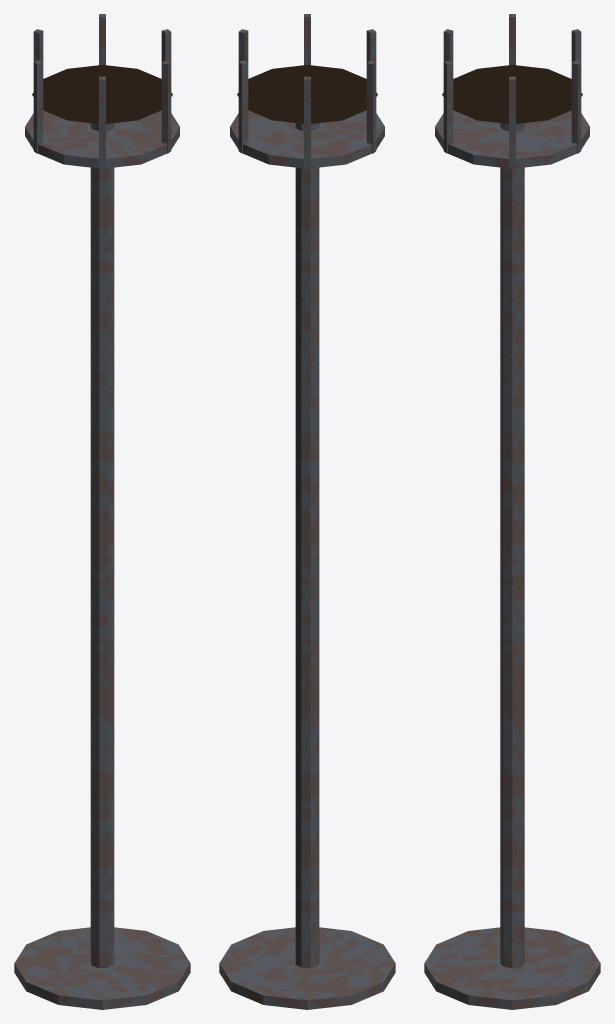
Rendered from SM_Souq_Cresset.fbx.
3 views of the same model, side by side, from view 1: azimuth 30°, elevation 25°; view 2: azimuth 150°, elevation 25°; view 3: azimuth 270°, elevation 25° (orthographic).
Parts seen in each view (by area): view 1: SM_Souq_Cresset; view 2: SM_Souq_Cresset; view 3: SM_Souq_Cresset.
Boxes of the visible parts, box(x1,y1,x2,y2) form: SM_Souq_Cresset: box(14, 14, 190, 1009); SM_Souq_Cresset: box(219, 14, 395, 1009); SM_Souq_Cresset: box(424, 14, 600, 1009).
Bounding box in the file's own units: 50 × 290 × 50.
2 materials, 2 textured.
